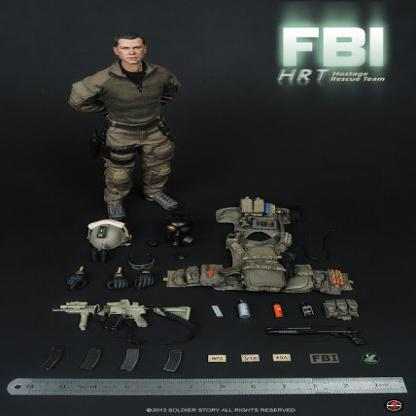Grenade: (236, 299, 254, 320), (300, 299, 316, 318)
Gun: (51, 299, 193, 332), (266, 322, 366, 348)
